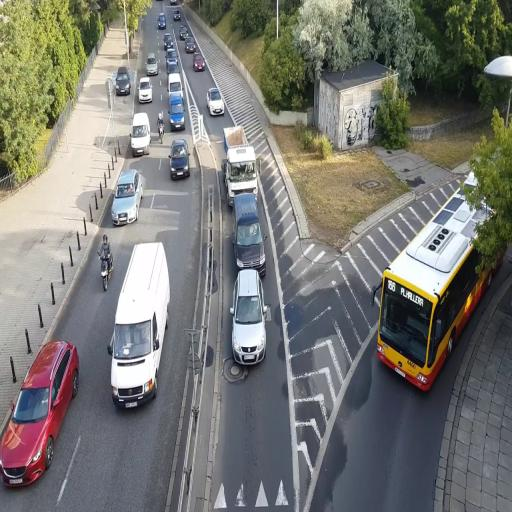vehicle: (375, 203, 493, 394), (0, 337, 80, 489), (0, 338, 80, 489), (108, 240, 170, 413), (108, 241, 170, 412), (226, 142, 266, 275), (230, 269, 268, 366), (233, 190, 266, 274), (223, 126, 258, 205), (111, 169, 142, 226), (168, 138, 190, 180), (130, 112, 150, 155), (206, 87, 226, 116), (169, 95, 185, 131), (114, 68, 131, 96), (137, 77, 153, 104), (193, 54, 205, 73)
